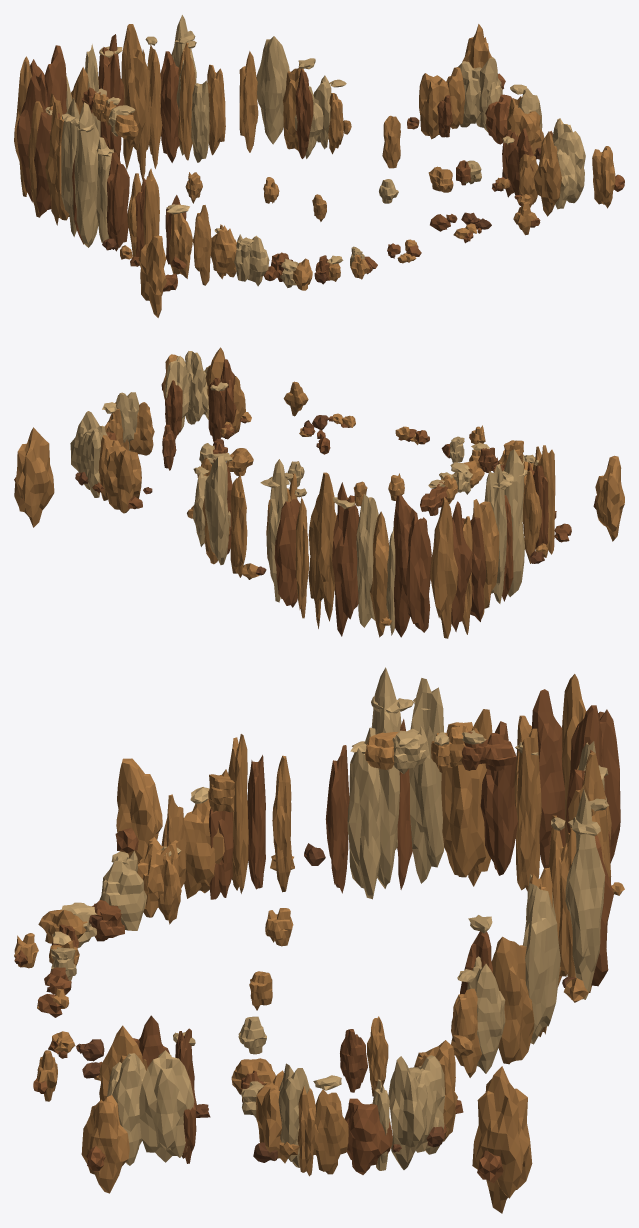
The model's file is cliffs.glb.
The picture shows the model from 3 angles, top to bottom: view 1: azimuth 30°, elevation 25°; view 2: azimuth 150°, elevation 25°; view 3: azimuth 270°, elevation 25°; orthographic projection. The views are drawn at different scales.
Visible parts, largest first — view 1: LT_CLIFFS; view 2: LT_CLIFFS; view 3: LT_CLIFFS.
Part boxes in pixels (left/top/right/bottom): LT_CLIFFS: left=14, top=15, right=624, bottom=317; LT_CLIFFS: left=14, top=347, right=624, bottom=638; LT_CLIFFS: left=14, top=667, right=624, bottom=1213.
Size of the model in its own units: 99.76 by 31.83 by 73.9.
